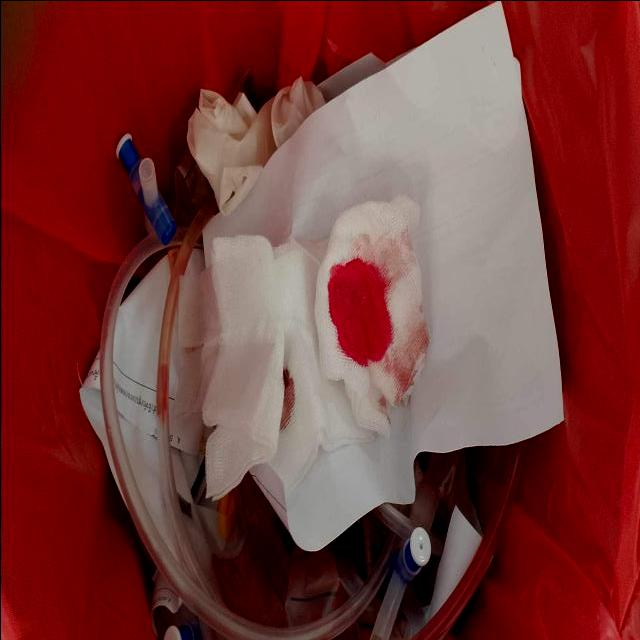General: (77, 4, 564, 638), (196, 190, 431, 503)
Infectious: (312, 193, 429, 436)
Sharps: (367, 524, 432, 639), (113, 130, 178, 245)
